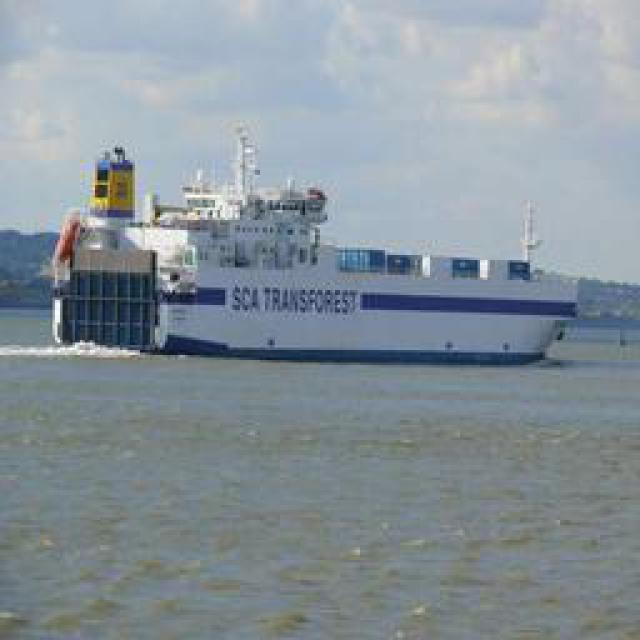Ship: (57, 126, 575, 369)
